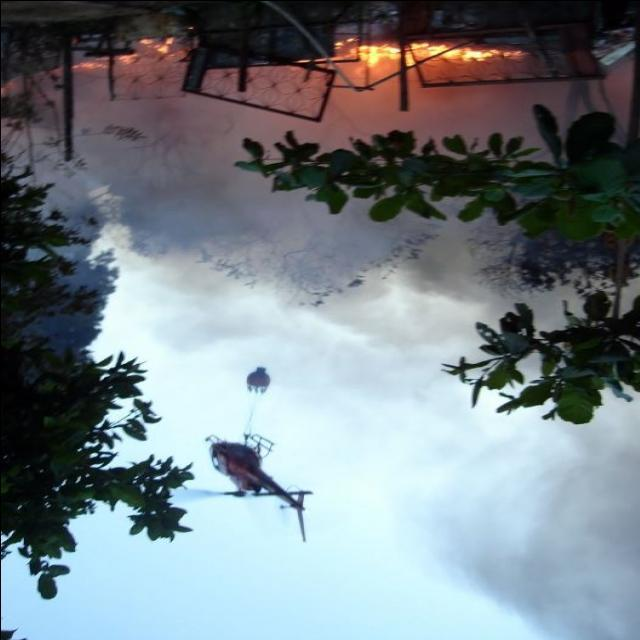Fire: (334, 28, 522, 78), (74, 32, 176, 74)
